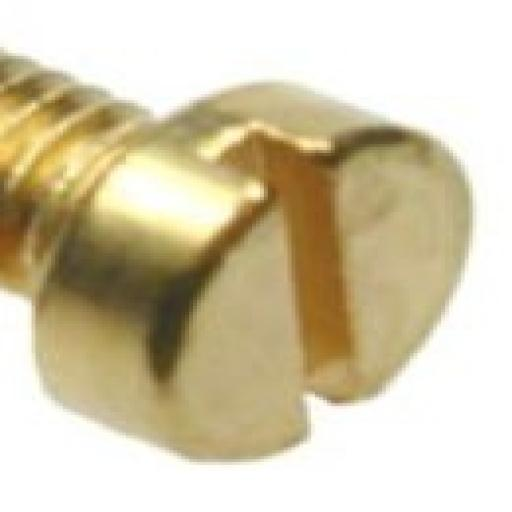Slotted: (26, 79, 465, 444)
